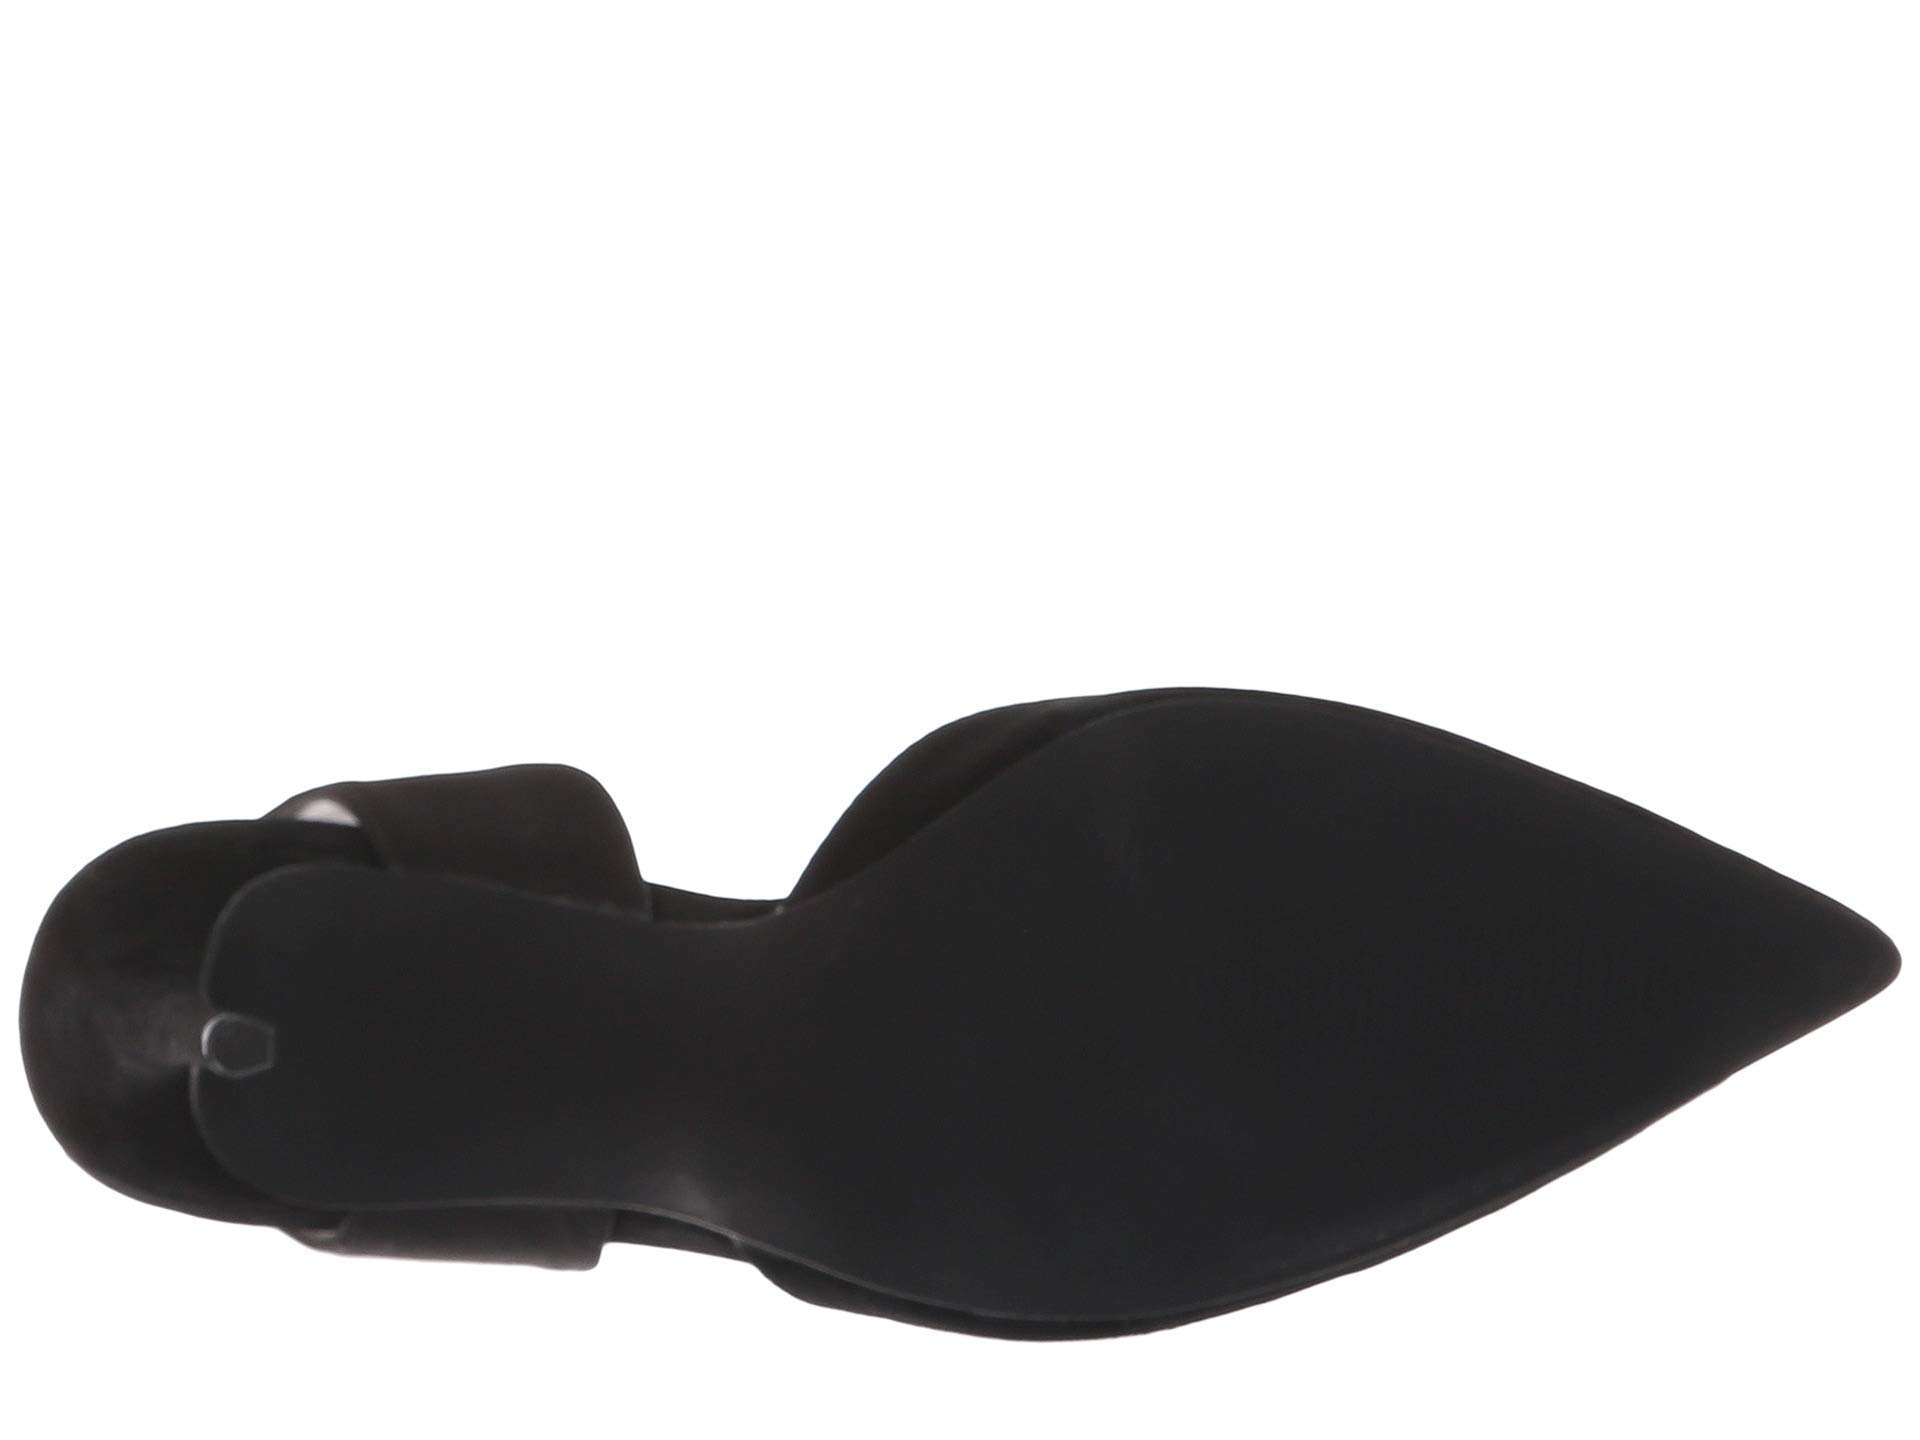circle: (194, 992, 292, 1086)
exclude: (376, 734, 736, 1343)
